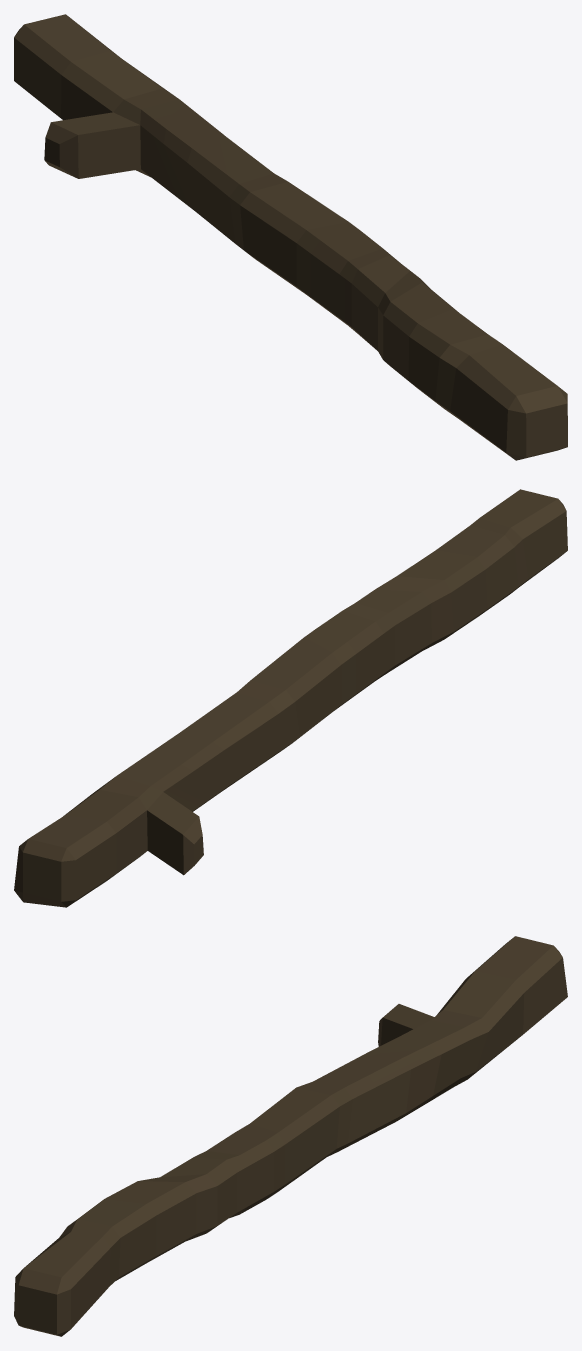
File: PineTwig.fbx
3 views of the same model, one above another, from view 1: azimuth 30°, elevation 25°; view 2: azimuth 150°, elevation 25°; view 3: azimuth 330°, elevation 25° (orthographic). The views are drawn at different scales.
Visible parts, largest first — view 1: Cube.001; view 2: Cube.001; view 3: Cube.001.
Part boxes in pixels (x1,y1,x2,y2): Cube.001: (14,14,567,460); Cube.001: (14,489,567,907); Cube.001: (14,936,567,1336).
Bounding box in the file's own units: 51.99 × 38.28 × 389.
